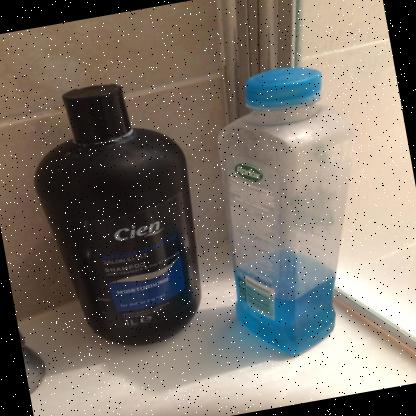Other plastic container: (33, 83, 201, 345), (217, 66, 355, 354)
Plastic bottle cap: (245, 66, 321, 107)
